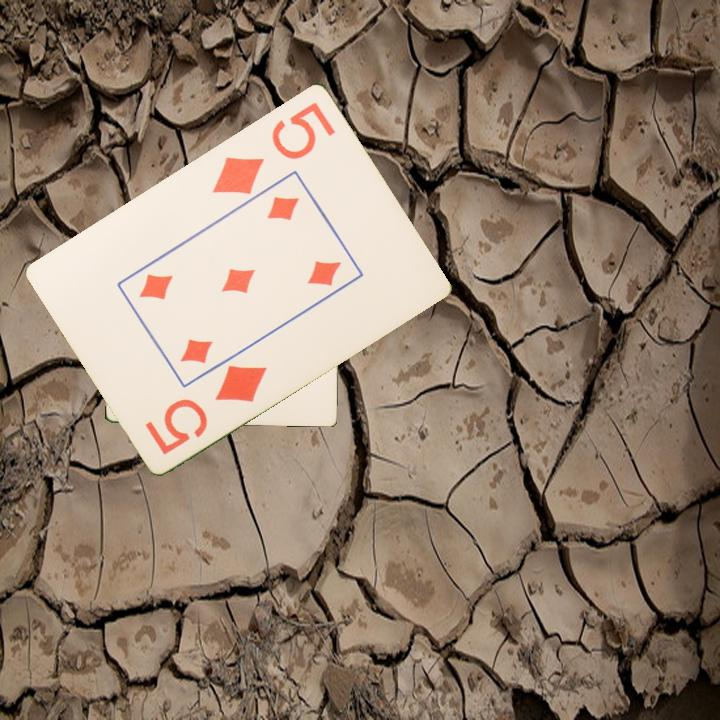5d: (208, 97, 339, 197), (141, 360, 270, 457)
